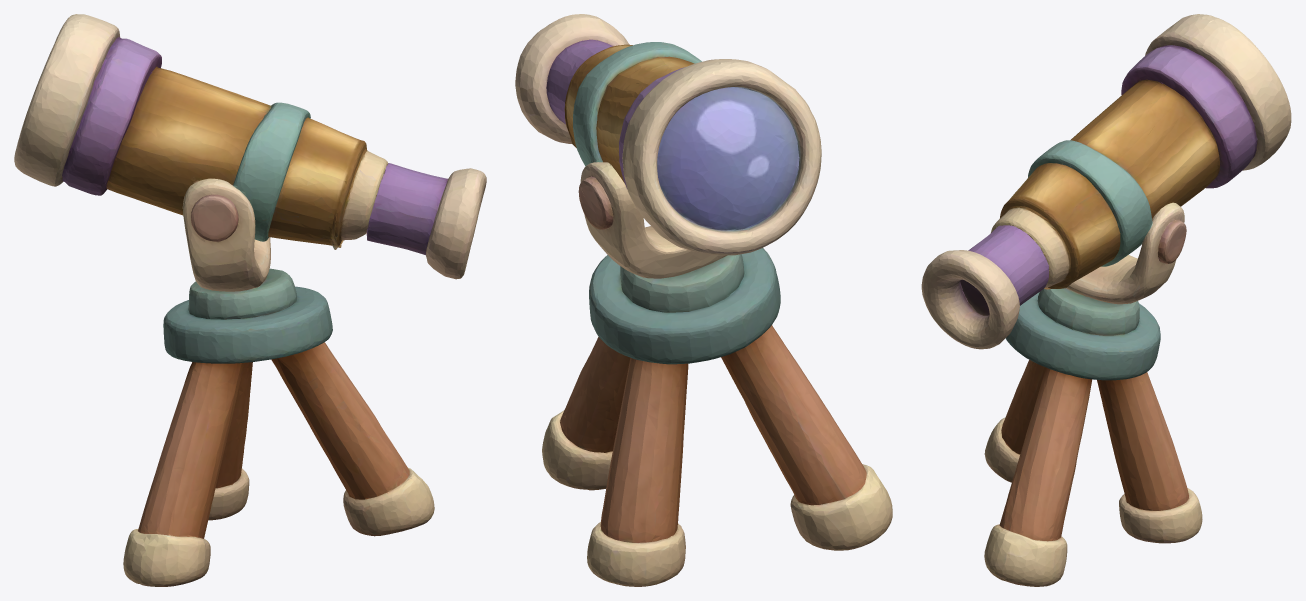
Rendered from item_telescope.glb.
3 renders of one model, left to right at view 1: azimuth 30°, elevation 25°; view 2: azimuth 150°, elevation 25°; view 3: azimuth 270°, elevation 25°, orthographic. The views are drawn at different scales.
Visible parts, largest first — view 1: geometry_0; view 2: geometry_0; view 3: geometry_0.
Boxes of the visible parts, box(x1,y1,x2,y2) form: geometry_0: box(14, 14, 486, 586); geometry_0: box(515, 14, 892, 586); geometry_0: box(921, 14, 1291, 586).
Size of the model in its own units: 0.6236 by 0.8039 by 0.5821.
Materials: 1 (1 with a texture image).
